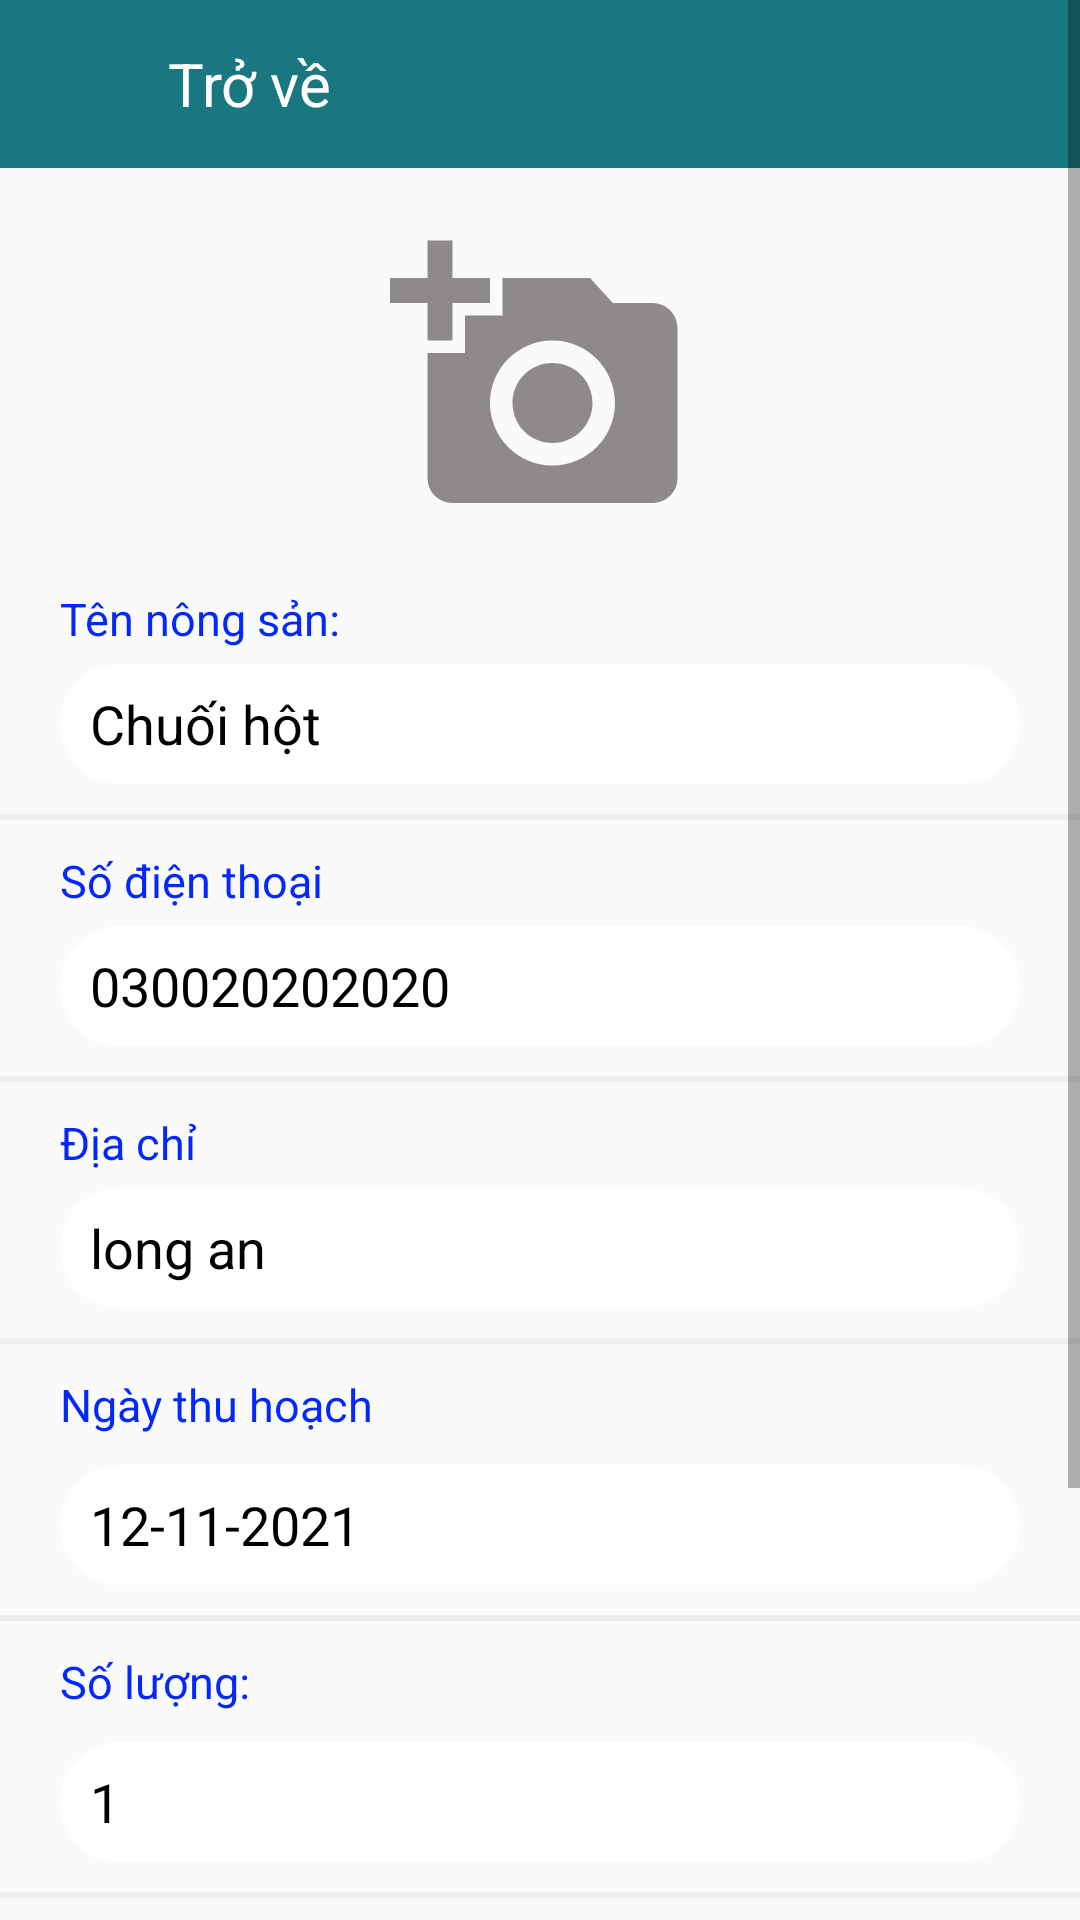

Where icons sit on this 1080 × 1920 app screen, as (x1,y1,x2,y2):
add picture: (390,240,678,503)
